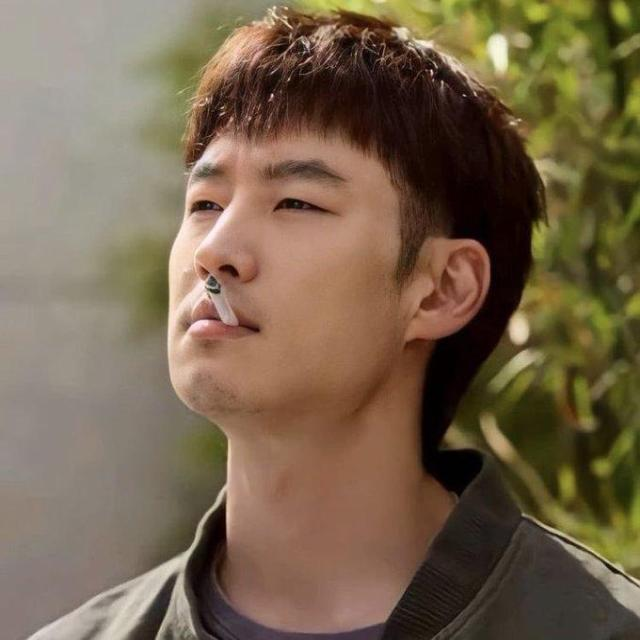rokok: (198, 272, 244, 336)
